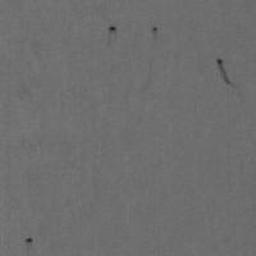Inclusion: (215, 56, 242, 88), (24, 237, 35, 243), (109, 24, 116, 32)
